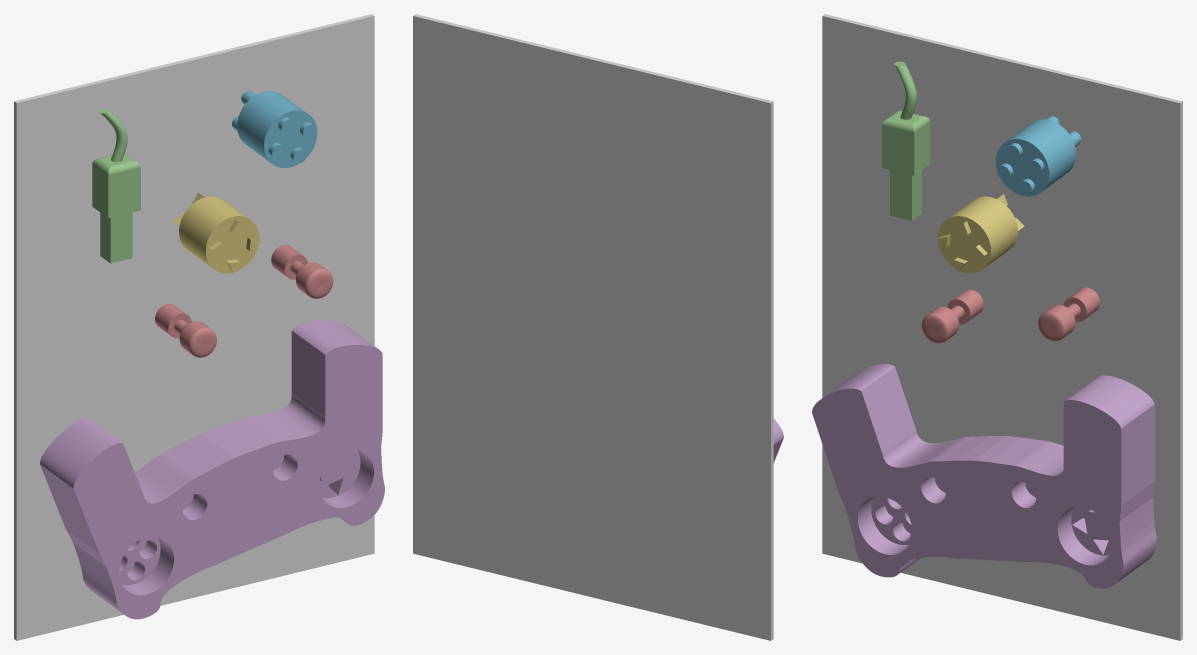
Rendered from pickup_layout.glb.
The picture shows the model from 3 angles, left to right: view 1: azimuth 30°, elevation 25°; view 2: azimuth 150°, elevation 25°; view 3: azimuth 330°, elevation 25°; orthographic projection.
Parts seen in each view (by area): view 1: world, 3.obj, 4.obj, 2.obj, 1.obj, 0.obj, 5.obj; view 2: world; view 3: world, 3.obj, 4.obj, 2.obj, 1.obj, 0.obj, 5.obj.
Boxes of the visible parts, left/top/right/bottom form: world: left=14, top=14, right=374, bottom=640; 3.obj: left=40, top=320, right=384, bottom=619; 4.obj: left=92, top=108, right=140, bottom=263; 2.obj: left=232, top=90, right=317, bottom=167; 1.obj: left=172, top=192, right=259, bottom=273; 0.obj: left=155, top=303, right=216, bottom=357; 5.obj: left=271, top=245, right=333, bottom=298; world: left=413, top=14, right=773, bottom=640; world: left=822, top=14, right=1182, bottom=640; 3.obj: left=812, top=364, right=1156, bottom=588; 4.obj: left=881, top=61, right=930, bottom=220; 2.obj: left=995, top=116, right=1081, bottom=196; 1.obj: left=937, top=194, right=1024, bottom=273; 0.obj: left=922, top=289, right=983, bottom=343; 5.obj: left=1038, top=287, right=1099, bottom=341.
Bounding box in the file's own units: 15.39 × 22.09 × 3.2.
